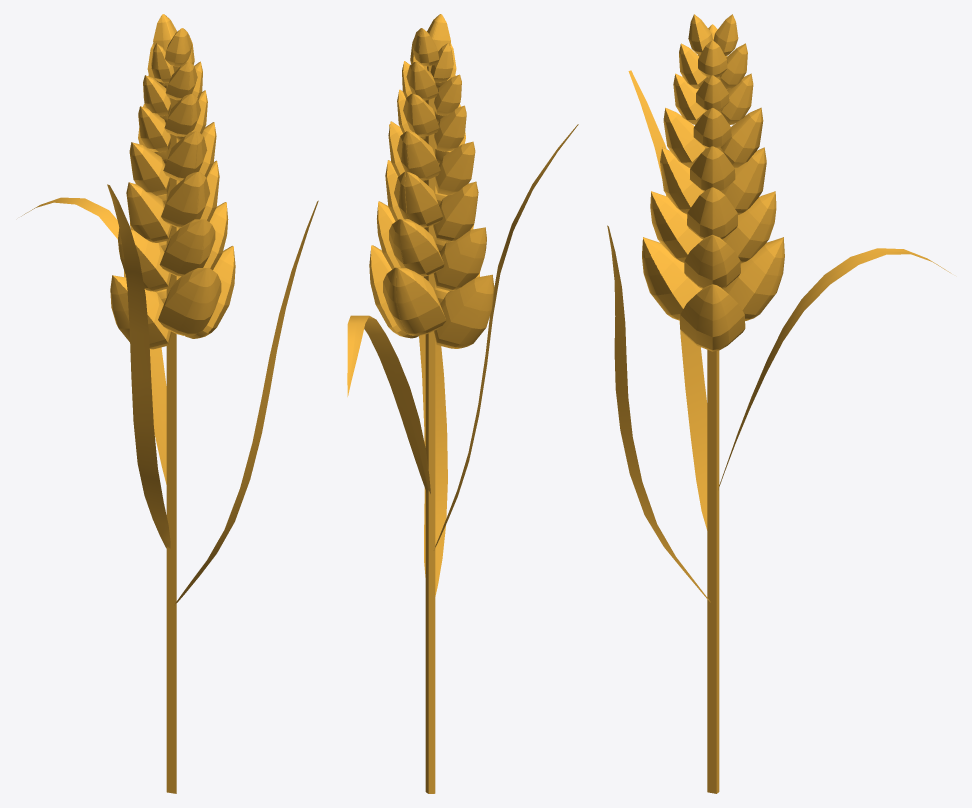
The model's file is wheat3.fbx.
The picture shows the model from 3 angles, left to right: view 1: azimuth 30°, elevation 25°; view 2: azimuth 150°, elevation 25°; view 3: azimuth 270°, elevation 25°; orthographic projection.
Visible parts, largest first — view 1: Cylinder.001; view 2: Cylinder.001; view 3: Cylinder.001.
Part boxes in pixels (x1,y1,x2,y2): Cylinder.001: [21, 14, 318, 793]; Cylinder.001: [347, 14, 578, 793]; Cylinder.001: [607, 14, 951, 793].
Bounding box in the file's own units: 26.23 × 96.29 × 39.34.
